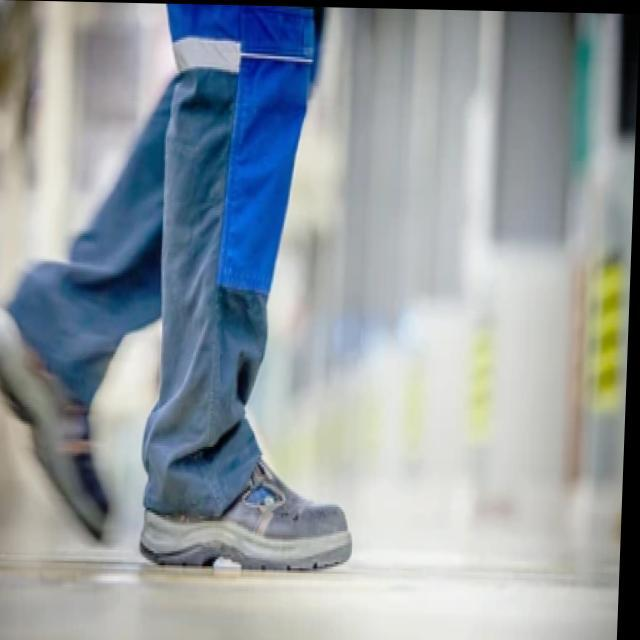shoes: (0, 261, 370, 583)
